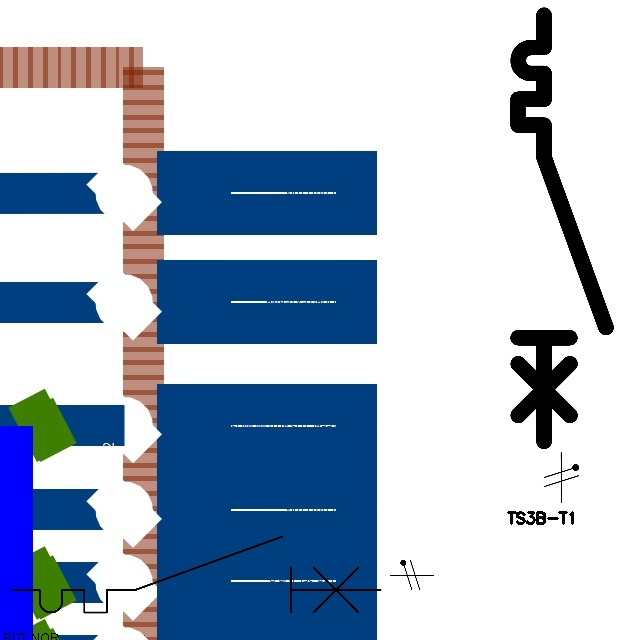interruptor_termomagnetico: (507, 4, 616, 452), (2, 527, 390, 622)
